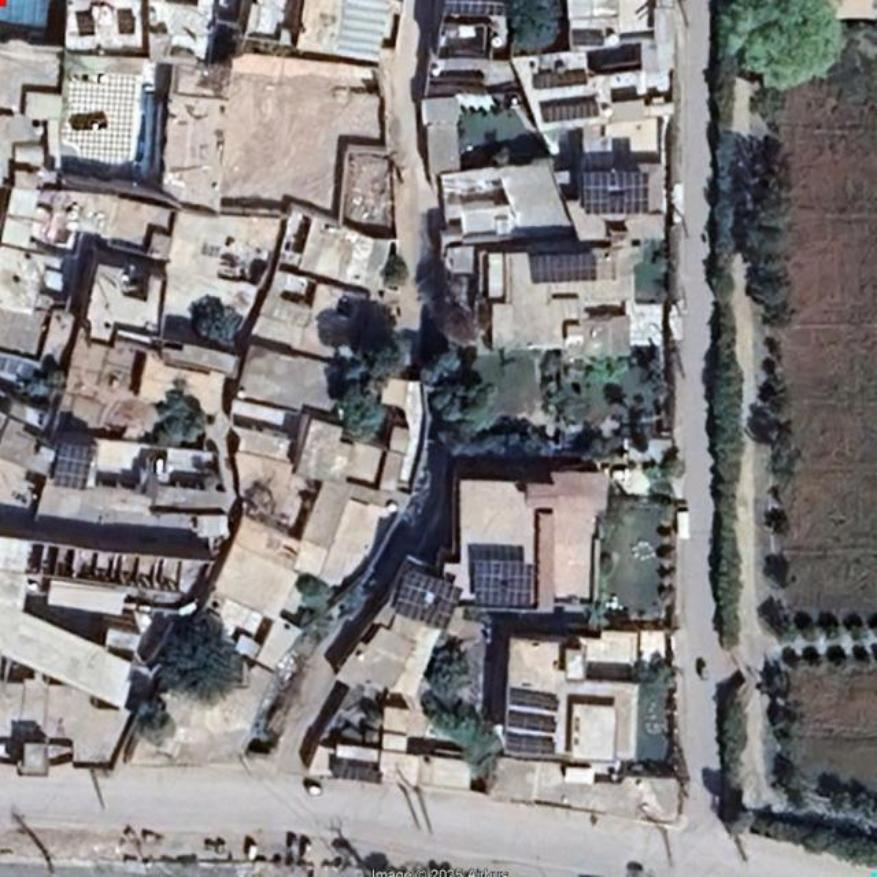Solarpanel: (395, 563, 461, 626), (470, 559, 538, 607), (580, 170, 649, 216), (53, 443, 97, 486), (530, 251, 594, 280), (512, 686, 560, 714), (505, 712, 560, 735), (440, 0, 508, 16), (504, 734, 553, 756)
